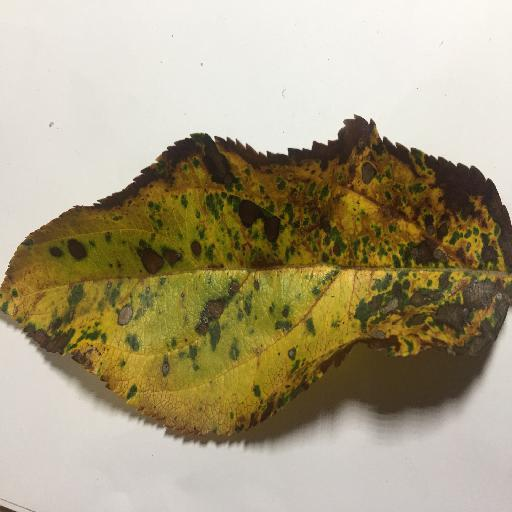Brown_Spot: (248, 151, 509, 379), (15, 313, 104, 377), (127, 240, 218, 274), (40, 236, 91, 261), (194, 292, 222, 336), (116, 301, 147, 339)
